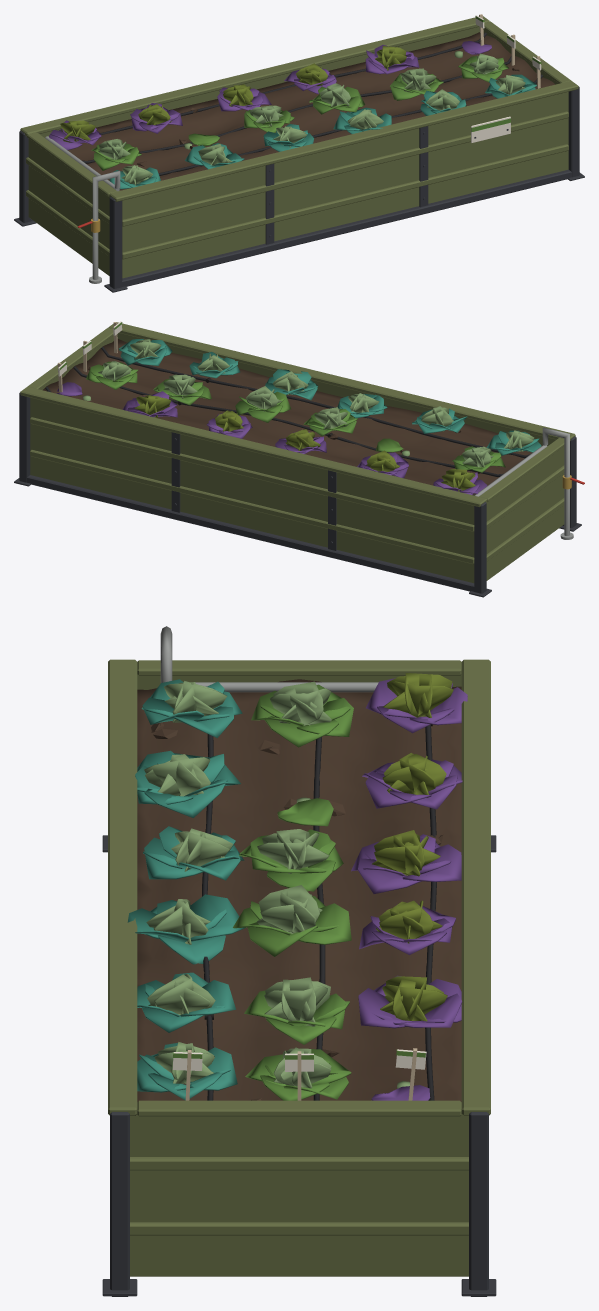
File: deco_farm_bed_leafy.fbx
3 renders of one model, top to bottom at view 1: azimuth 30°, elevation 25°; view 2: azimuth 150°, elevation 25°; view 3: azimuth 270°, elevation 25°, orthographic. The views are drawn at different scales.
Parts seen in each view (by area): view 1: FarmBed_Leafy_Frame, FarmBed_Leafy_Heads, FarmBed_Leafy_Soil, FarmBed_Leafy_Irrigation, FarmBed_Leafy_Tags, FarmBed_Leafy_Stumps; view 2: FarmBed_Leafy_Frame, FarmBed_Leafy_Heads, FarmBed_Leafy_Soil, FarmBed_Leafy_Irrigation, FarmBed_Leafy_Stumps, FarmBed_Leafy_Tags; view 3: FarmBed_Leafy_Frame, FarmBed_Leafy_Heads, FarmBed_Leafy_Soil, FarmBed_Leafy_Irrigation, FarmBed_Leafy_Tags, FarmBed_Leafy_Stumps.
Part boxes in pixels (x1=…): FarmBed_Leafy_Frame: x1=14, y1=16, x2=584, y2=292; FarmBed_Leafy_Heads: x1=49, y1=45, x2=536, y2=189; FarmBed_Leafy_Soil: x1=68, y1=32, x2=554, y2=190; FarmBed_Leafy_Irrigation: x1=45, y1=32, x2=543, y2=283; FarmBed_Leafy_Tags: x1=471, y1=14, x2=541, y2=142; FarmBed_Leafy_Stumps: x1=184, y1=41, x2=491, y2=149; FarmBed_Leafy_Frame: x1=14, y1=322, x2=581, y2=597; FarmBed_Leafy_Heads: x1=86, y1=339, x2=541, y2=494; FarmBed_Leafy_Soil: x1=43, y1=339, x2=542, y2=494; FarmBed_Leafy_Irrigation: x1=45, y1=347, x2=584, y2=539; FarmBed_Leafy_Stumps: x1=56, y1=382, x2=409, y2=456; FarmBed_Leafy_Tags: x1=57, y1=321, x2=122, y2=392; FarmBed_Leafy_Frame: x1=102, y1=659, x2=496, y2=1296; FarmBed_Leafy_Heads: x1=127, y1=673, x2=467, y2=1100; FarmBed_Leafy_Soil: x1=137, y1=679, x2=461, y2=1101; FarmBed_Leafy_Irrigation: x1=160, y1=626, x2=436, y2=1100; FarmBed_Leafy_Tags: x1=172, y1=1048, x2=426, y2=1100; FarmBed_Leafy_Stumps: x1=277, y1=797, x2=430, y2=1100.
Bounding box in the file's own units: 424 × 93.99 × 148.
